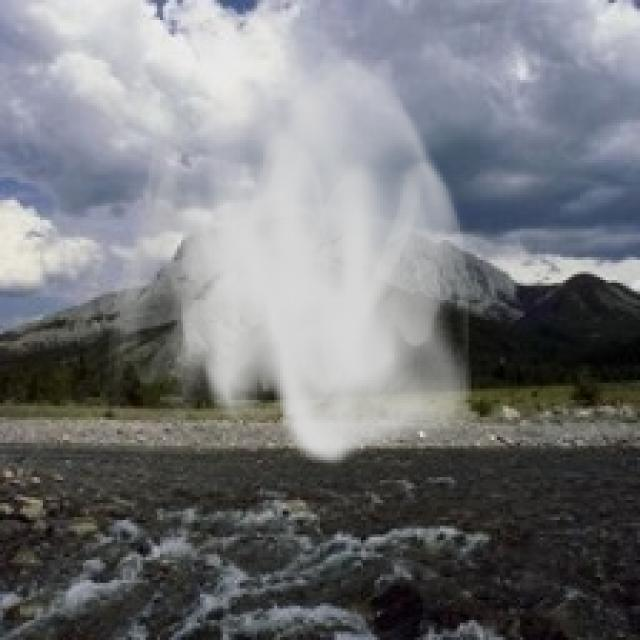Smoke: (103, 42, 483, 468)
